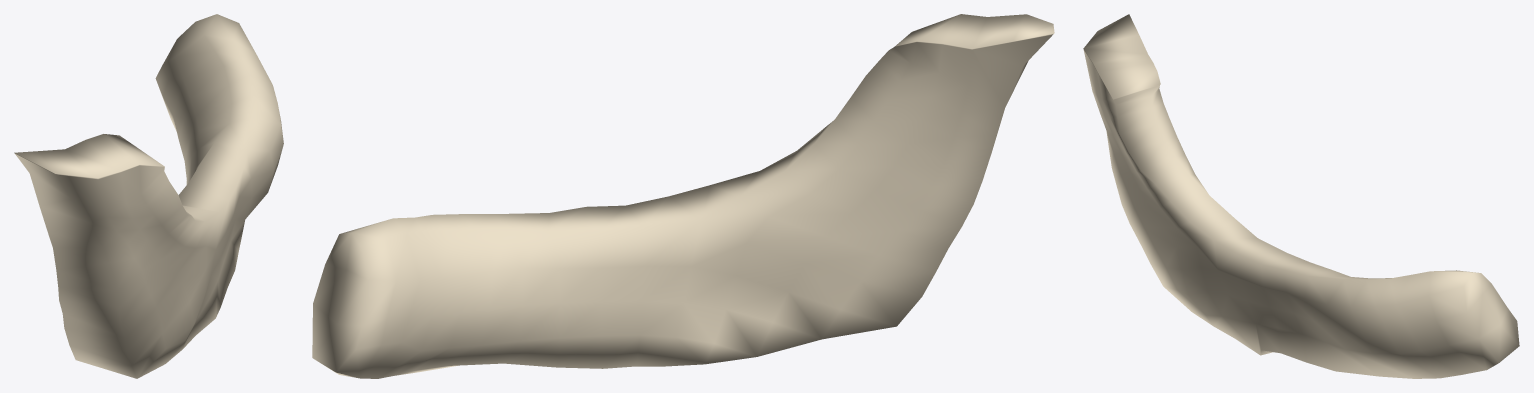
Rendered from costal-cartilage-of-ninth-rib-l.glb.
3 renders of one model, left to right at view 1: azimuth 30°, elevation 25°; view 2: azimuth 150°, elevation 25°; view 3: azimuth 270°, elevation 25°, orthographic. The views are drawn at different scales.
Parts seen in each view (by area): view 1: Costal cartilage of ninth rib.l; view 2: Costal cartilage of ninth rib.l; view 3: Costal cartilage of ninth rib.l.
Boxes of the visible parts, bbox=[...] form: Costal cartilage of ninth rib.l: bbox=[14, 14, 283, 378]; Costal cartilage of ninth rib.l: bbox=[312, 14, 1054, 378]; Costal cartilage of ninth rib.l: bbox=[1083, 14, 1519, 378].
Bounding box in the file's own units: 0.064 × 0.0401 × 0.0682.
